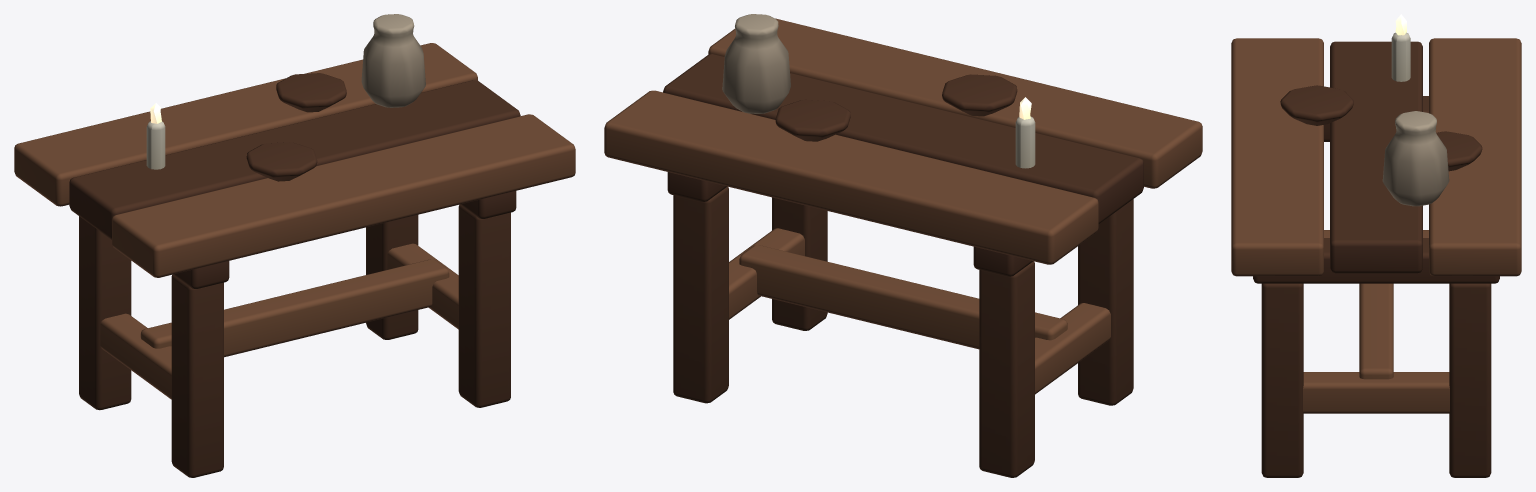
The model's file is hall_table.glb.
3 views of the same model, side by side, from view 1: azimuth 30°, elevation 25°; view 2: azimuth 150°, elevation 25°; view 3: azimuth 270°, elevation 25° (orthographic). The views are drawn at different scales.
Visible parts, largest first — view 1: hall_table; view 2: hall_table; view 3: hall_table.
Boxes of the visible parts, x1,y1,x2,y2 form: hall_table: (14,14,575,477); hall_table: (604,14,1202,477); hall_table: (1231,32,1521,477).
Bounding box in the file's own units: 1 × 0.76 × 0.588.
